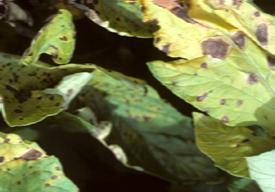Tomato Septoria leaf spot: (131, 0, 275, 150), (0, 22, 102, 130), (0, 120, 104, 192)
